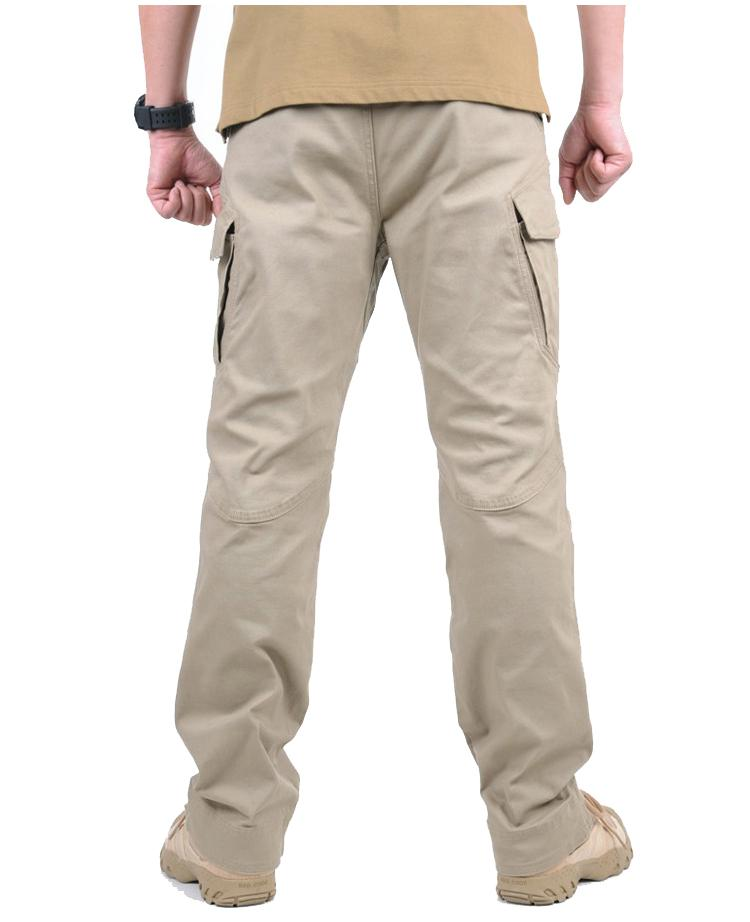pants: (173, 71, 599, 882)
